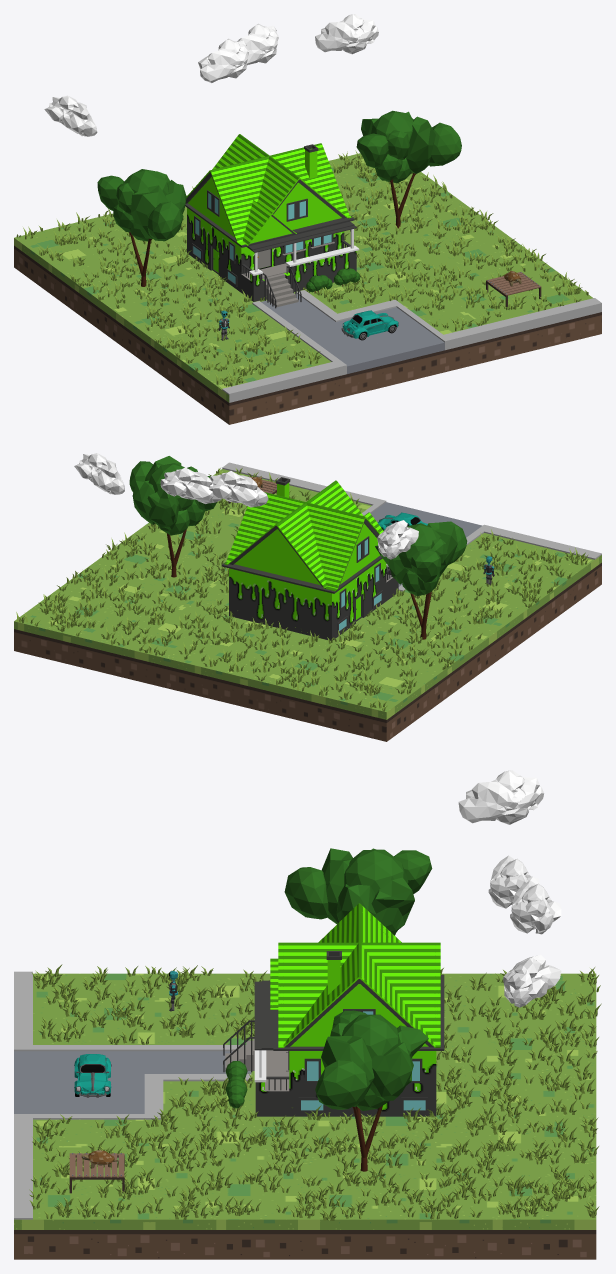
3 views of the same model, one above another, from view 1: azimuth 30°, elevation 25°; view 2: azimuth 150°, elevation 25°; view 3: azimuth 270°, elevation 25° (orthographic). The views are drawn at different scales.
Parts seen in each view (by area): view 1: Cube.006, Cube.754, Circle.012_Grass_0.192, Cube.007, tree, tree.001, VEHICLES_VOLKSWAGEN, Cube.009; view 2: Cube.006, Cube.754, Circle.012_Grass_0.192, Cube.007, tree.001, tree, VEHICLES_VOLKSWAGEN; view 3: Cube.006, Circle.012_Grass_0.192, Cube.754, tree, Cube.007, tree.001, VEHICLES_VOLKSWAGEN, Cube.009.
Boxes of the visible parts, x1,y1,x2,y2 form: Cube.006: (14, 153, 601, 424); Cube.754: (185, 134, 359, 308); Circle.012_Grass_0.192: (16, 150, 588, 386); Cube.007: (44, 14, 378, 136); tree: (356, 110, 461, 228); tree.001: (97, 169, 186, 286); VEHICLES_VOLKSWAGEN: (341, 310, 398, 340); Cube.009: (486, 272, 541, 306); Cube.006: (14, 462, 601, 741); Cube.754: (221, 477, 398, 640); Circle.012_Grass_0.192: (16, 468, 588, 711); Cube.007: (74, 453, 418, 559); tree.001: (375, 521, 467, 639); tree: (129, 456, 216, 577); VEHICLES_VOLKSWAGEN: (377, 512, 427, 530); Cube.006: (14, 971, 596, 1259); Circle.012_Grass_0.192: (29, 964, 601, 1220); Cube.754: (223, 903, 444, 1116); tree: (315, 1010, 428, 1171); Cube.007: (458, 770, 561, 1007); tree.001: (284, 848, 432, 935); VEHICLES_VOLKSWAGEN: (74, 1054, 111, 1097); Cube.009: (69, 1153, 124, 1193).
Bounding box in the file's own units: 4071 × 2176 × 4040.
41 materials, 4 textured.
